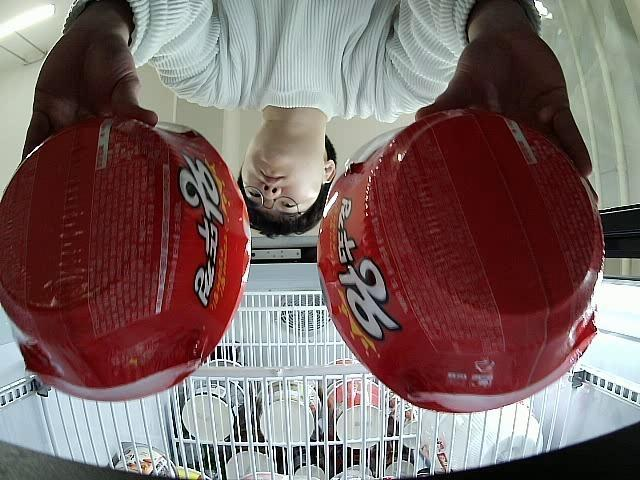10_wangTtukkeong: (318, 108, 603, 412), (1, 115, 252, 401)
